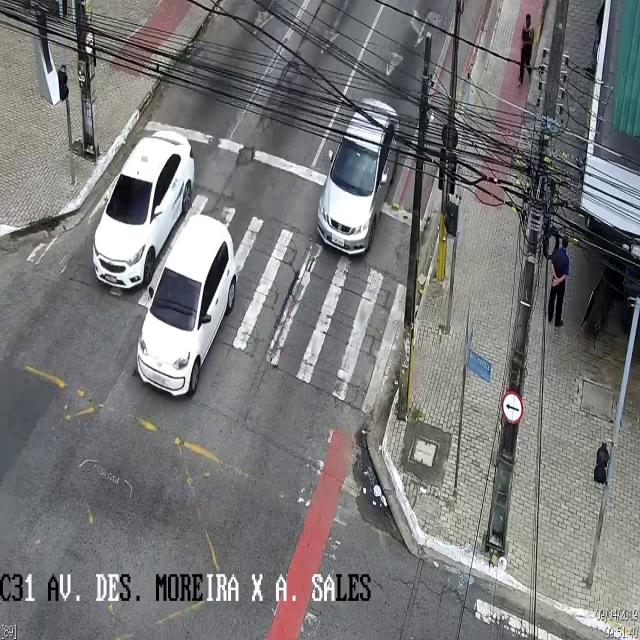Car: (135, 217, 238, 396), (90, 127, 192, 283), (315, 95, 398, 261)
